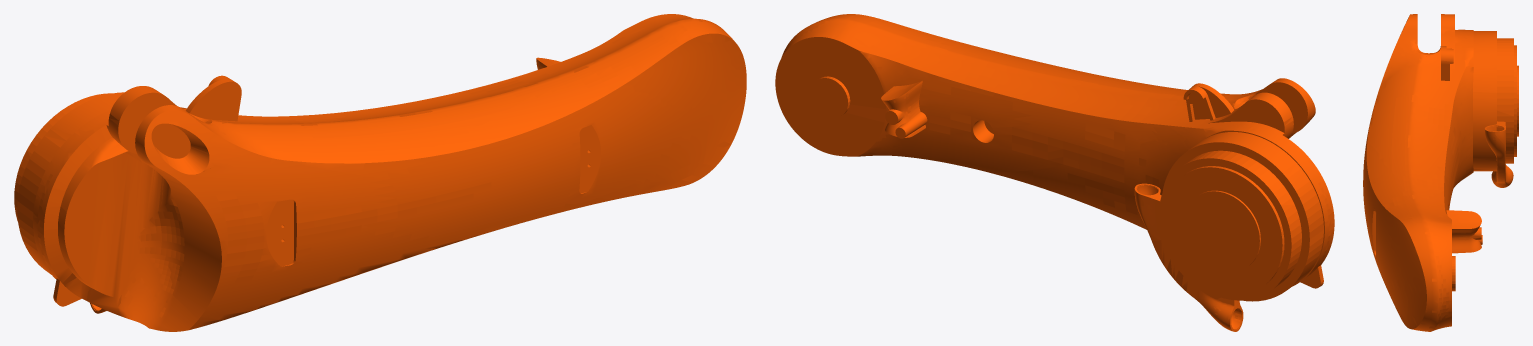
The model's file is KR210R2700prime_KRxxxH1150.2_3_Rep.dae.
The picture shows the model from 3 angles, left to right: view 1: azimuth 30°, elevation 25°; view 2: azimuth 150°, elevation 25°; view 3: azimuth 270°, elevation 25°; orthographic projection. The views are drawn at different scales.
Visible parts, largest first — view 1: KR210R2700prime_KRxxxH1150.2_3; view 2: KR210R2700prime_KRxxxH1150.2_3; view 3: KR210R2700prime_KRxxxH1150.2_3.
Boxes of the visible parts, x1=… form: KR210R2700prime_KRxxxH1150.2_3: x1=14, y1=14, x2=746, y2=331; KR210R2700prime_KRxxxH1150.2_3: x1=775, y1=14, x2=1334, y2=331; KR210R2700prime_KRxxxH1150.2_3: x1=1363, y1=14, x2=1518, y2=331.
Bounding box in the file's own units: 1515 × 438 × 532.
